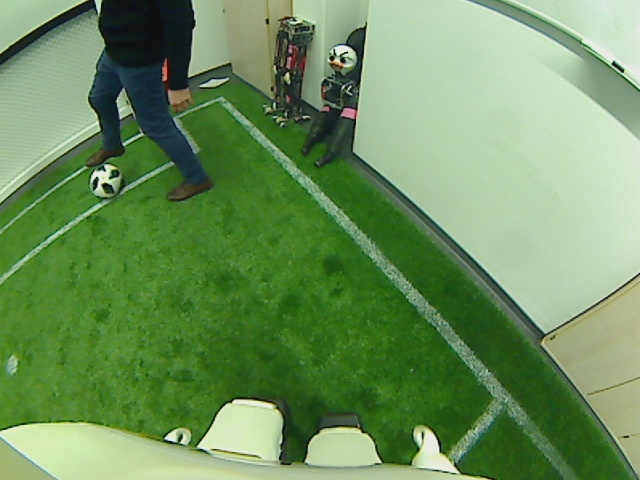ball: (88, 162, 125, 197)
